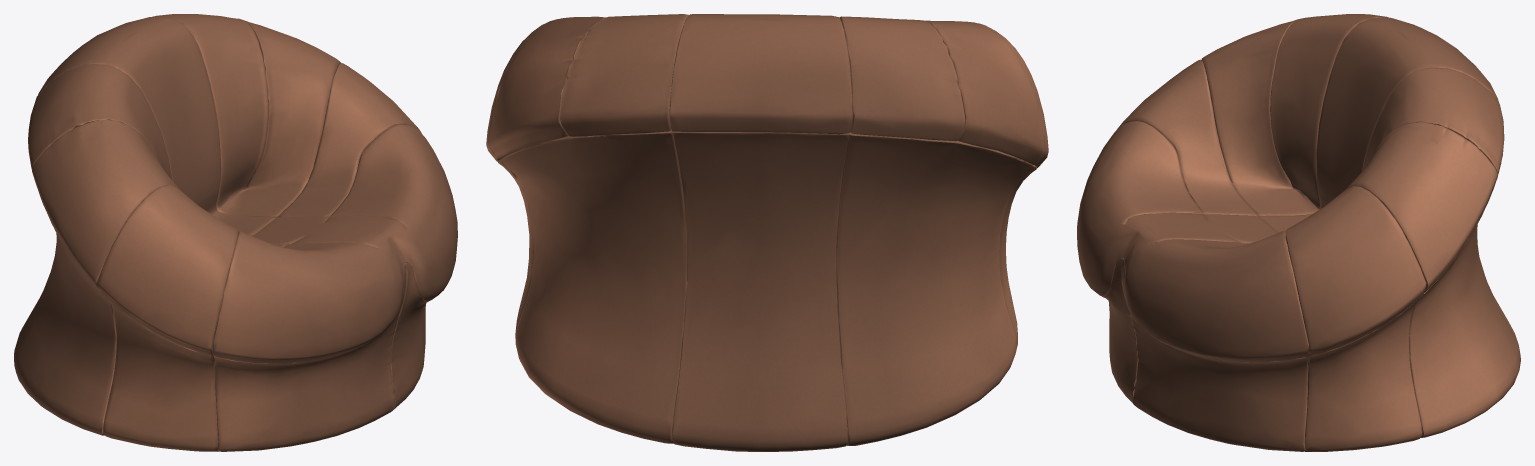
File: raw_model.obj
3 views of the same model, side by side, from view 1: azimuth 30°, elevation 25°; view 2: azimuth 150°, elevation 25°; view 3: azimuth 270°, elevation 25° (orthographic). The views are drawn at different scales.
Parts seen in each view (by area): view 1: solid_001; view 2: solid_001; view 3: solid_001.
Boxes of the visible parts, left/top/right/bottom form: solid_001: left=14, top=14, right=457, bottom=451; solid_001: left=486, top=14, right=1048, bottom=451; solid_001: left=1077, top=14, right=1520, bottom=451.
Size of the model in its own units: 0.9756 by 0.758 by 0.9641.
1 material, 1 textured.
